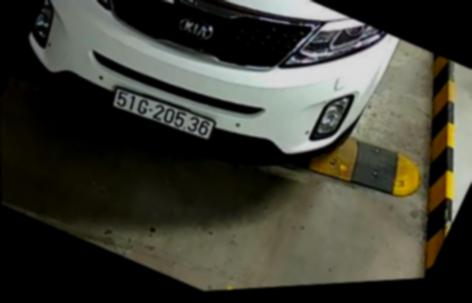License_Plate: (111, 80, 215, 153)
